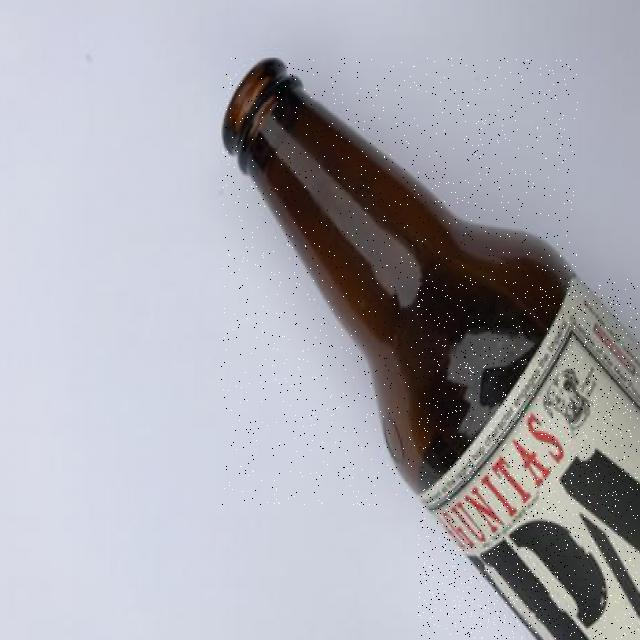glass: (221, 59, 578, 505)
paper: (419, 279, 639, 639)
